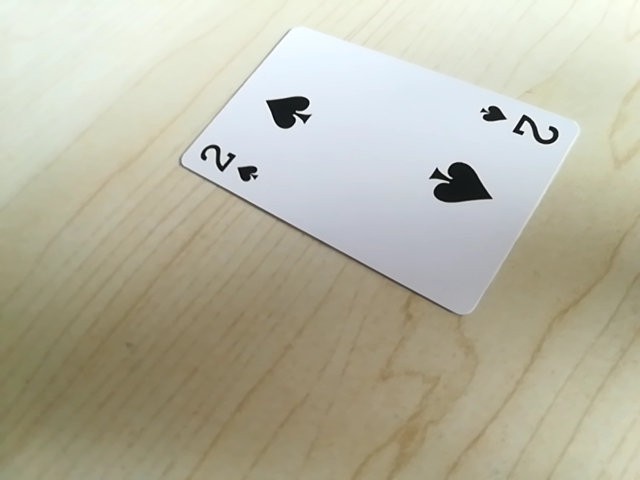ht 2: (475, 101, 567, 152), (189, 141, 261, 188)
